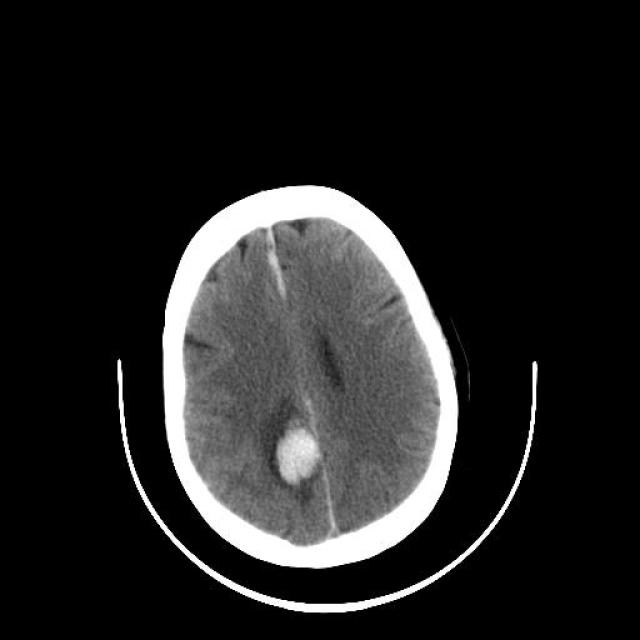Intraparenchymal: (236, 410, 352, 495)
Subdural: (251, 216, 300, 312)
